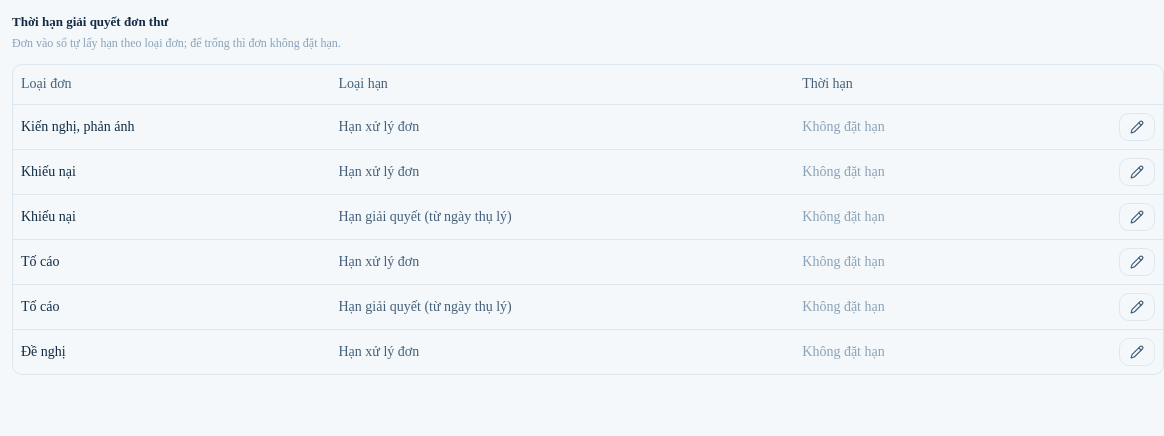
Test case: Thời hạn giải quyết đơn thư › từ chối số ngày không dương () tại chỗ, không gửi gì
What coordinates should you click on to do the following:
click the button titled "Sửa thời hạn"
I would click on:
 (1137, 262)
Its box is [1119,248,1155,276].
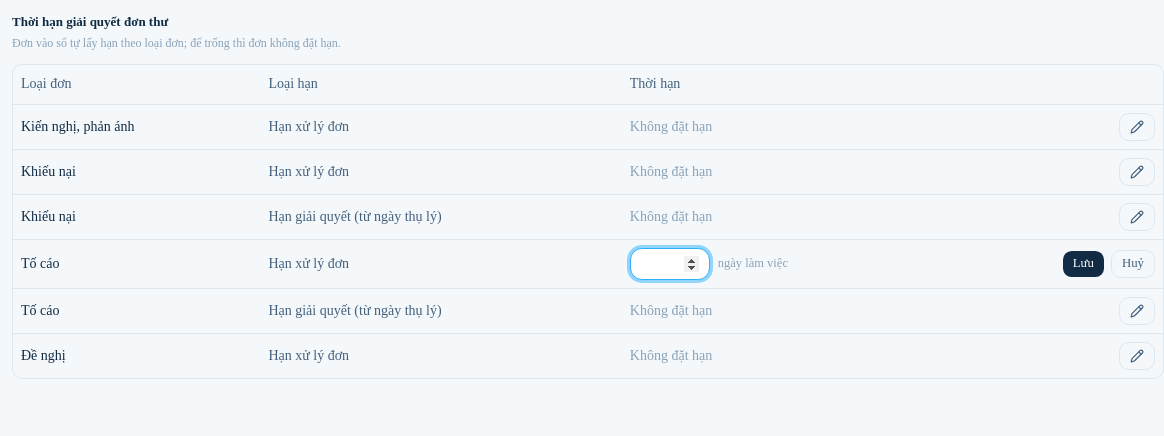
What coordinates should you click on to do the following:
click the button "Lưu"
I would click on:
 (1083, 264)
Its box is [1062,250,1105,278].
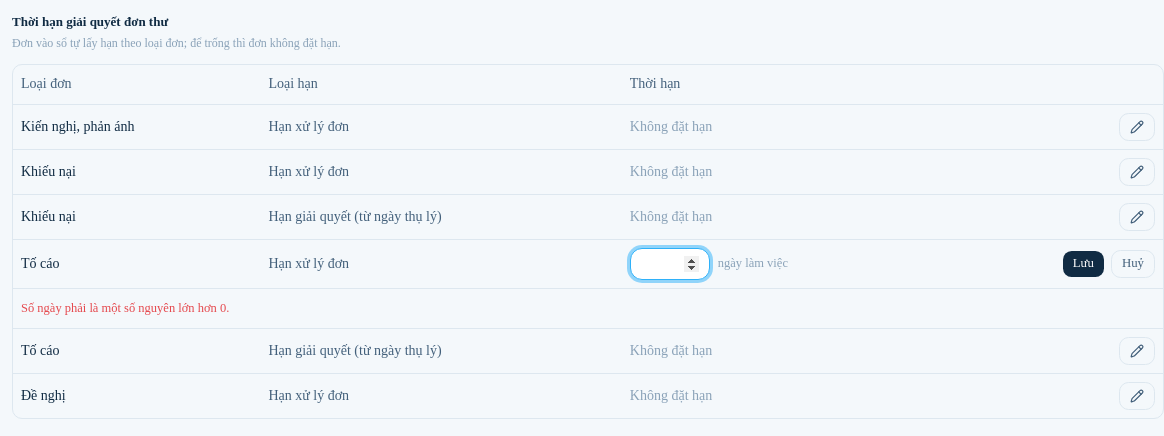
Result: the text "Số ngày phải là một số nguyên lớn hơn 0." is shown at [21,301,229,315]
